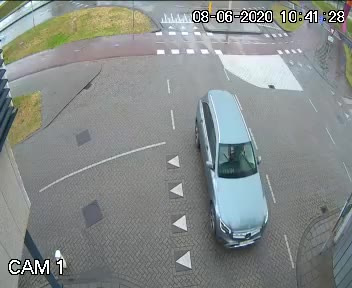car: (182, 80, 274, 257)
